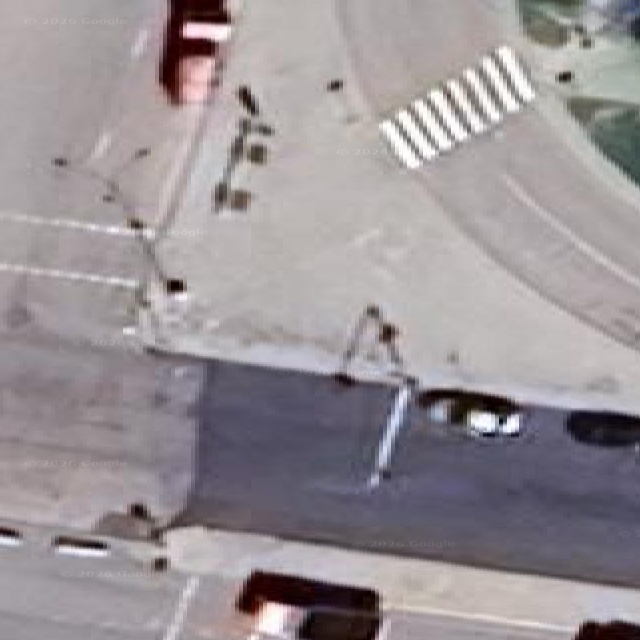car: (236, 571, 381, 639), (160, 0, 231, 104), (418, 388, 523, 437), (566, 411, 639, 447), (573, 620, 639, 639)
